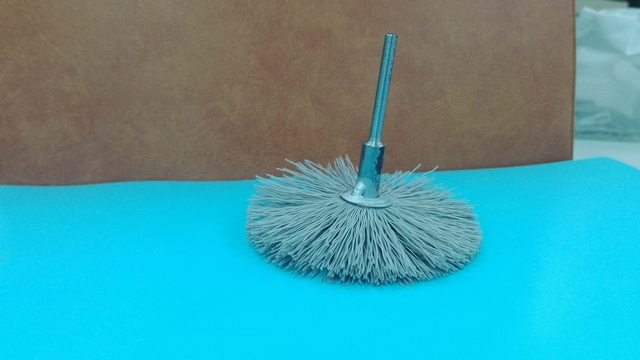TOOL: (184, 15, 526, 295), (231, 24, 486, 287), (248, 140, 488, 291)
